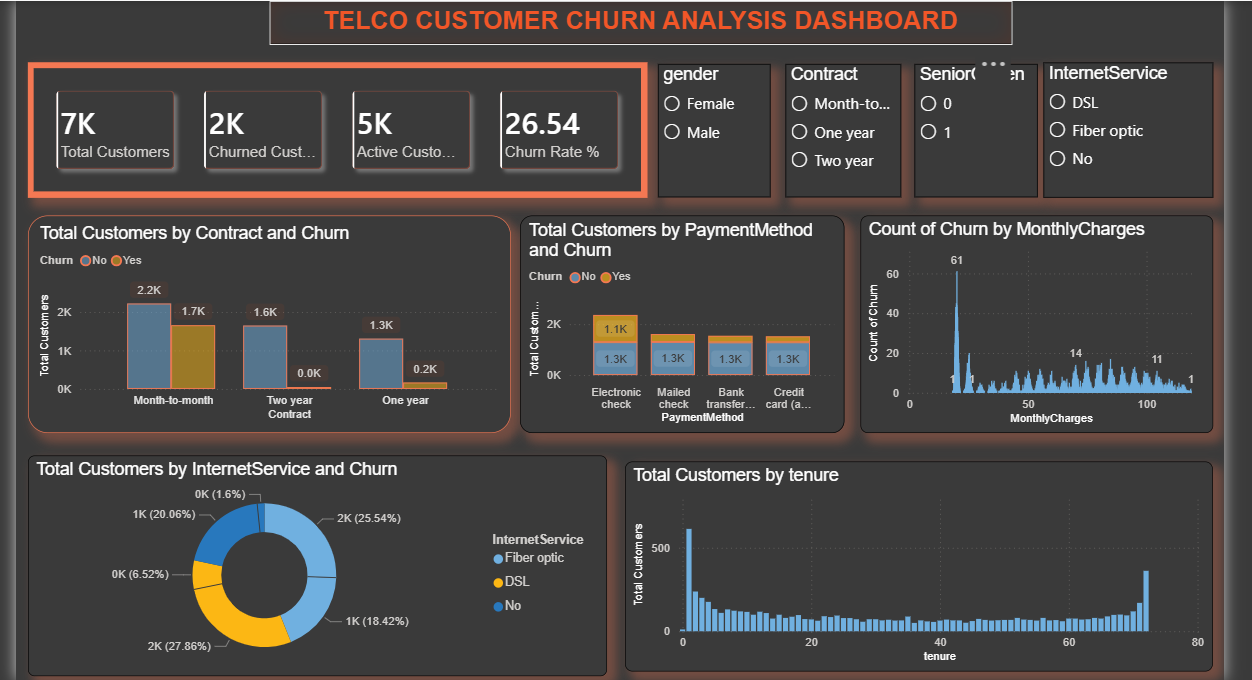

Layout of this report page (visuals, bound fields, positions):
{"tool":"powerbi","page":{"name":"Page 1","canvas":[1280,720],"ordinal":0},"visuals":[{"type":"cardVisual","fields":{"Data":["WA_Fn-UseC_-Telco-Customer-Churn.Total Customers","WA_Fn-UseC_-Telco-Customer-Churn.Churned Customers","WA_Fn-UseC_-Telco-Customer-Churn.Active Customers","WA_Fn-UseC_-Telco-Customer-Churn.Churn Rate %"]},"box":[12.7,65.2,656.9,143.2],"z":0},{"type":"clusteredColumnChart","fields":{"Category":["WA_Fn-UseC_-Telco-Customer-Churn.Contract"],"Y":["WA_Fn-UseC_-Telco-Customer-Churn.Total Customers"],"Series":["WA_Fn-UseC_-Telco-Customer-Churn.Churn"]},"box":[13.2,226.8,512.1,230.6],"z":1000},{"type":"donutChart","fields":{"Category":["WA_Fn-UseC_-Telco-Customer-Churn.InternetService"],"Series":["WA_Fn-UseC_-Telco-Customer-Churn.Churn"],"Y":["WA_Fn-UseC_-Telco-Customer-Churn.Total Customers"]},"box":[12.7,482,614,233.8],"z":2000},{"type":"columnChart","fields":{"Category":["WA_Fn-UseC_-Telco-Customer-Churn.PaymentMethod"],"Y":["WA_Fn-UseC_-Telco-Customer-Churn.Total Customers"],"Series":["WA_Fn-UseC_-Telco-Customer-Churn.Churn"]},"box":[534.8,226.8,343.9,230.6],"z":3000},{"type":"columnChart","fields":{"Y":["WA_Fn-UseC_-Telco-Customer-Churn.Total Customers"],"Category":["WA_Fn-UseC_-Telco-Customer-Churn.tenure"]},"box":[645.8,488.3,623.5,222.7],"z":4000},{"type":"columnChart","fields":{"Category":["WA_Fn-UseC_-Telco-Customer-Churn.MonthlyCharges"],"Y":["CountNonNull(WA_Fn-UseC_-Telco-Customer-Churn.Churn)"]},"box":[895.5,227.5,373.8,230.6],"z":5000},{"type":"listSlicer","fields":{"Values":["WA_Fn-UseC_-Telco-Customer-Churn.gender"]},"box":[680.8,66.8,119.3,141.6],"z":6000},{"type":"listSlicer","fields":{"Values":["WA_Fn-UseC_-Telco-Customer-Churn.Contract"]},"box":[816,66.8,122.5,141.6],"z":7000},{"type":"listSlicer","fields":{"Values":["WA_Fn-UseC_-Telco-Customer-Churn.SeniorCitizen"]},"box":[952.8,66.8,130.4,141.6],"z":8000},{"type":"listSlicer","fields":{"Values":["WA_Fn-UseC_-Telco-Customer-Churn.InternetService"]},"box":[1089.6,65.2,179.7,143.2],"z":9000},{"type":"textbox","box":[268.8,0,787.4,46.1],"z":9001}]}

Visuals, with their boxes in screenshot pixels (x1, y1, x2, y2):
cardVisual - WA_Fn-UseC_-Telco-Customer-Churn.Total Customers x WA_Fn-UseC_-Telco-Customer-Churn.Churned Customers: 9/63/645/202
clusteredColumnChart - WA_Fn-UseC_-Telco-Customer-Churn.Contract x WA_Fn-UseC_-Telco-Customer-Churn.Total Customers: 10/219/505/443
donutChart - WA_Fn-UseC_-Telco-Customer-Churn.InternetService x WA_Fn-UseC_-Telco-Customer-Churn.Churn: 9/466/603/679
columnChart - WA_Fn-UseC_-Telco-Customer-Churn.PaymentMethod x WA_Fn-UseC_-Telco-Customer-Churn.Total Customers: 514/219/847/443
columnChart - WA_Fn-UseC_-Telco-Customer-Churn.Total Customers x WA_Fn-UseC_-Telco-Customer-Churn.tenure: 622/473/1225/679
columnChart - WA_Fn-UseC_-Telco-Customer-Churn.MonthlyCharges x CountNonNull(WA_Fn-UseC_-Telco-Customer-Churn.Churn): 863/220/1225/443
listSlicer - WA_Fn-UseC_-Telco-Customer-Churn.gender: 656/65/771/202
listSlicer - WA_Fn-UseC_-Telco-Customer-Churn.Contract: 786/65/905/202
listSlicer - WA_Fn-UseC_-Telco-Customer-Churn.SeniorCitizen: 919/65/1045/202
listSlicer - WA_Fn-UseC_-Telco-Customer-Churn.InternetService: 1051/63/1225/202
textbox: 257/0/1019/45
